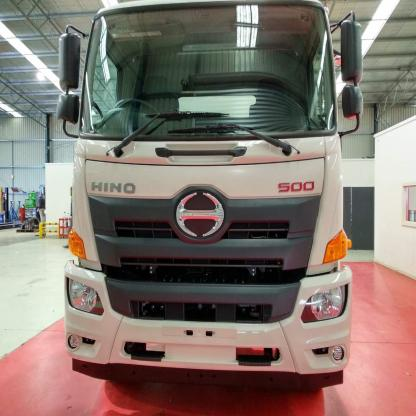dump_truck: (46, 1, 356, 391)
